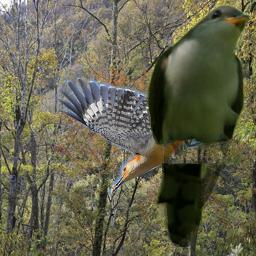Cuckoo: (146, 4, 251, 247)
Woodpecker: (53, 76, 214, 196)
